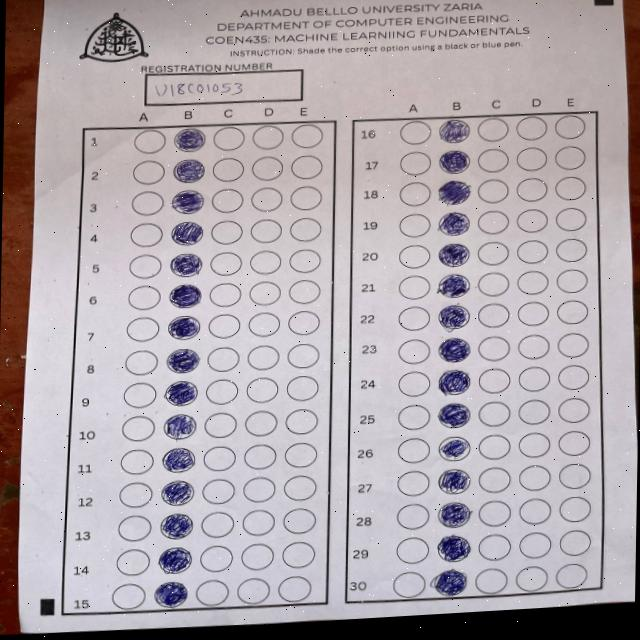bubble: (436, 533, 471, 563), (431, 568, 467, 597), (437, 368, 471, 397), (437, 500, 471, 529), (158, 546, 192, 575), (159, 512, 193, 541), (154, 579, 188, 608), (169, 250, 203, 278), (160, 478, 194, 506), (162, 446, 196, 474), (438, 179, 472, 207), (171, 187, 204, 215), (163, 412, 196, 440), (172, 126, 206, 153), (168, 282, 202, 309), (166, 347, 200, 374), (164, 379, 198, 406), (172, 157, 205, 184), (170, 219, 203, 246), (437, 468, 470, 495), (438, 210, 470, 237), (438, 402, 470, 429), (438, 336, 470, 363), (438, 303, 470, 330), (438, 435, 470, 462), (437, 273, 470, 299), (167, 314, 200, 340), (438, 242, 470, 268), (439, 118, 470, 144), (439, 149, 470, 174)
